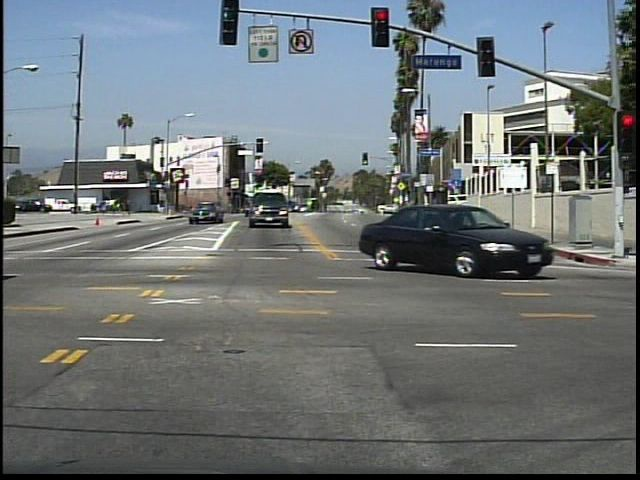person: (124, 194, 135, 219)
